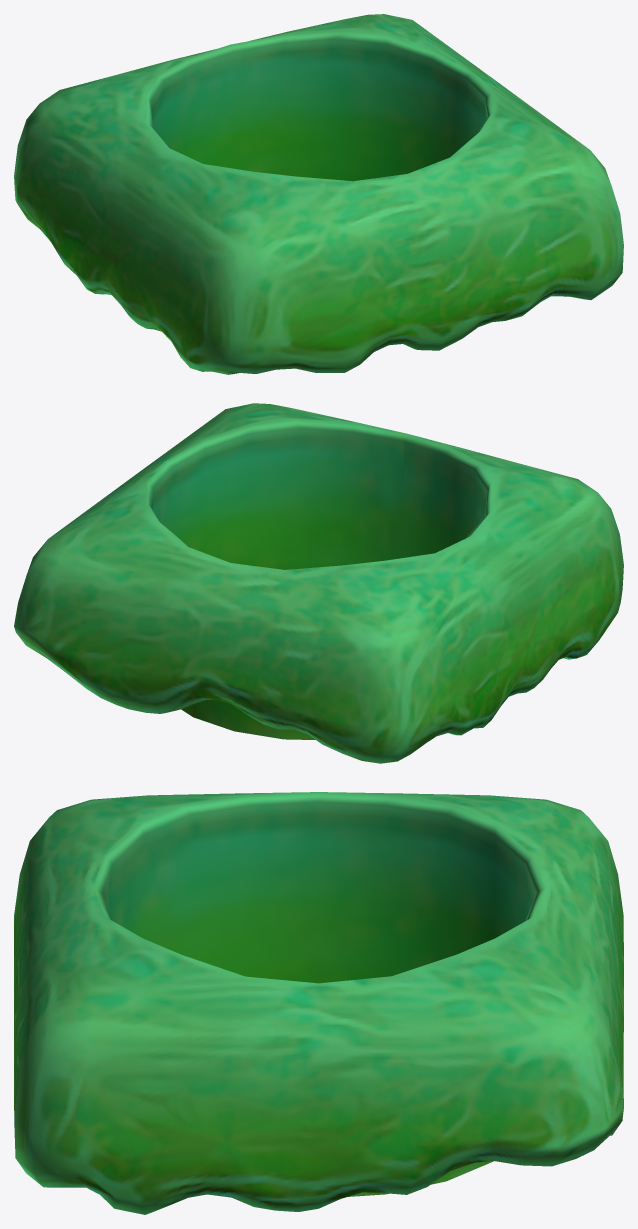
File: GrassTrapdoor.fbx
3 renders of one model, top to bottom at view 1: azimuth 30°, elevation 25°; view 2: azimuth 150°, elevation 25°; view 3: azimuth 270°, elevation 25°, orthographic. The views are drawn at different scales.
Visible parts, largest first — view 1: GrassTrapdoor; view 2: GrassTrapdoor; view 3: GrassTrapdoor.
Part boxes in pixels (x1,y1,x2,y2): GrassTrapdoor: (14,14,623,374); GrassTrapdoor: (14,403,623,763); GrassTrapdoor: (14,792,623,1214).
Size of the model in its own units: 107 by 43.91 by 107.
